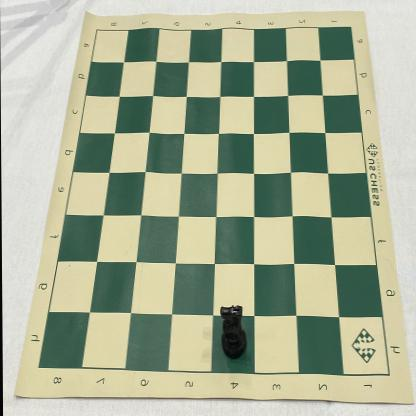black-knight: (219, 304, 247, 360)
